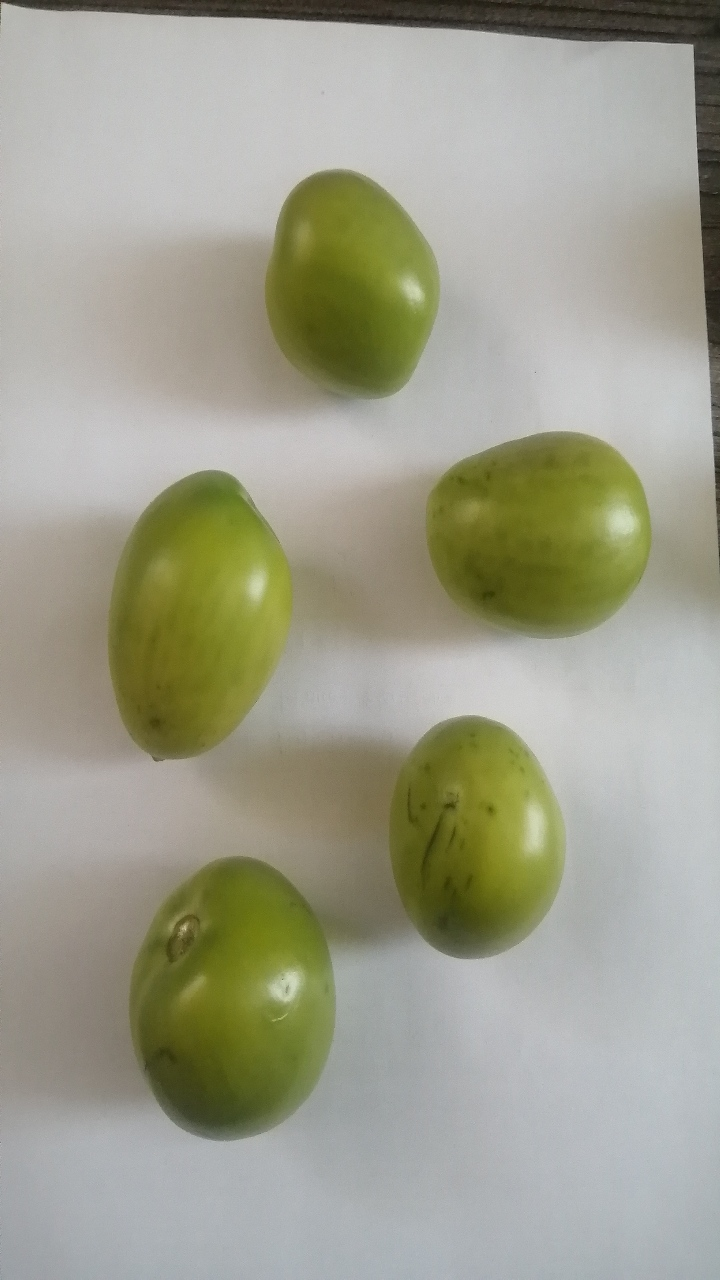tomateVerde: (83, 439, 324, 800), (109, 840, 341, 1162), (401, 415, 666, 662), (241, 155, 468, 429), (363, 700, 578, 977)
